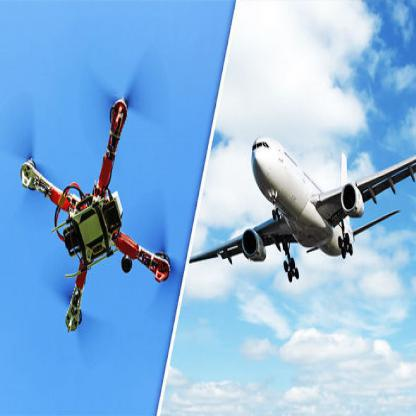CIV_Plane: (188, 128, 415, 290)
